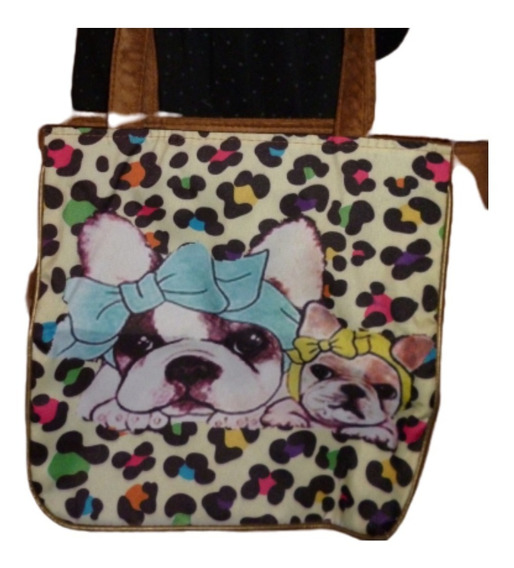cartera: (26, 27, 458, 543)
